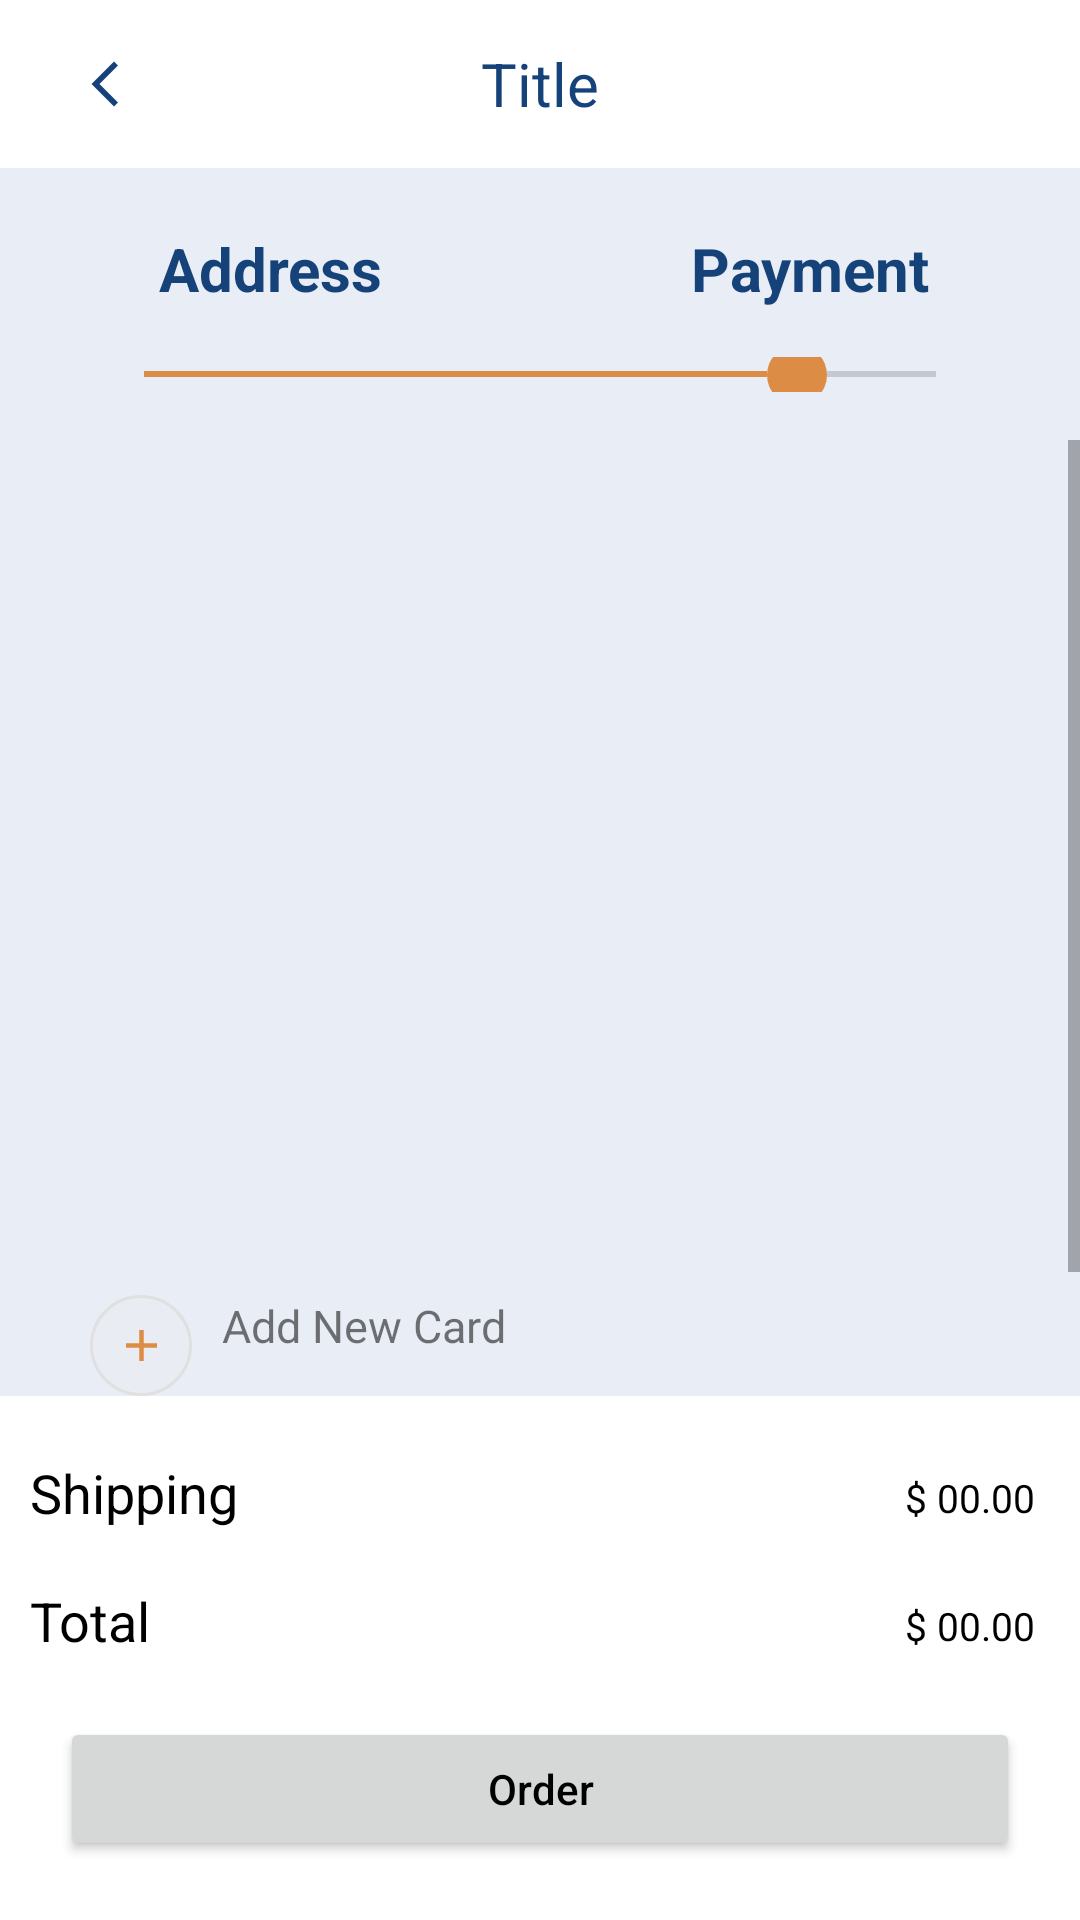

Named icons in this screenshot (1080px×1920px) and their bounding boxes, (x1, y1, x2, y2):
Back Button: (91, 61, 118, 107)
